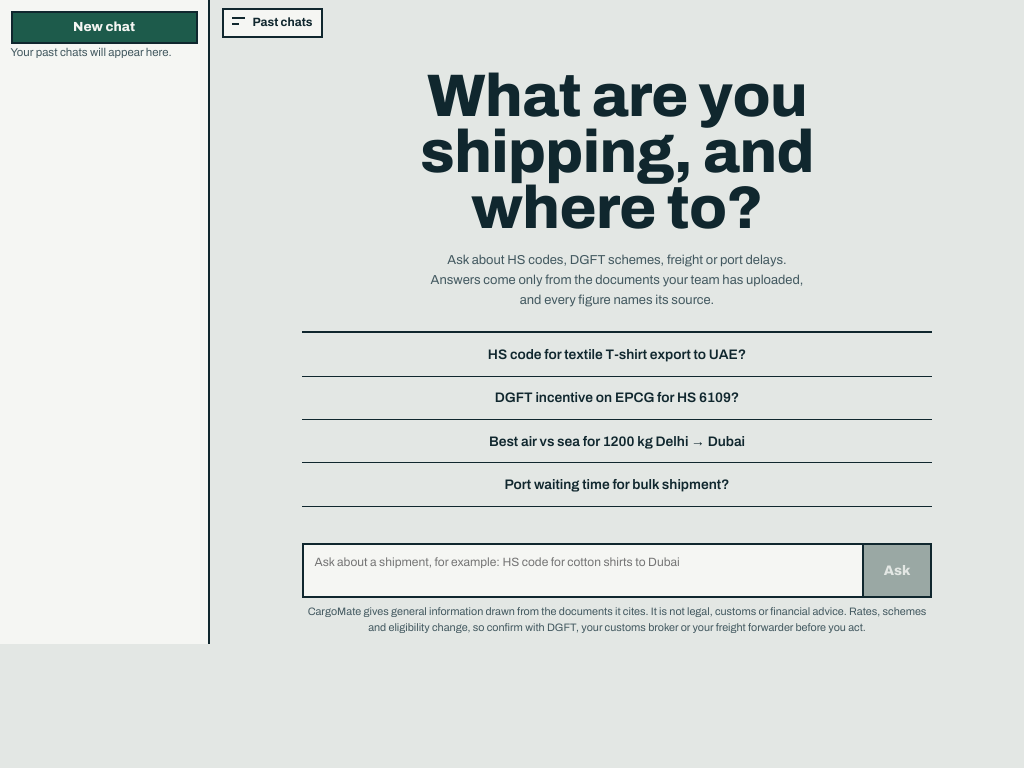
Test: Chat history › saves an answered chat and lists it by its first question, dated Today
Type "HS code for cotton shirts to Dubai" into the text box named "Your question" at (583, 571), box x1=304 y1=545 x2=862 y2=596
Then press Enter
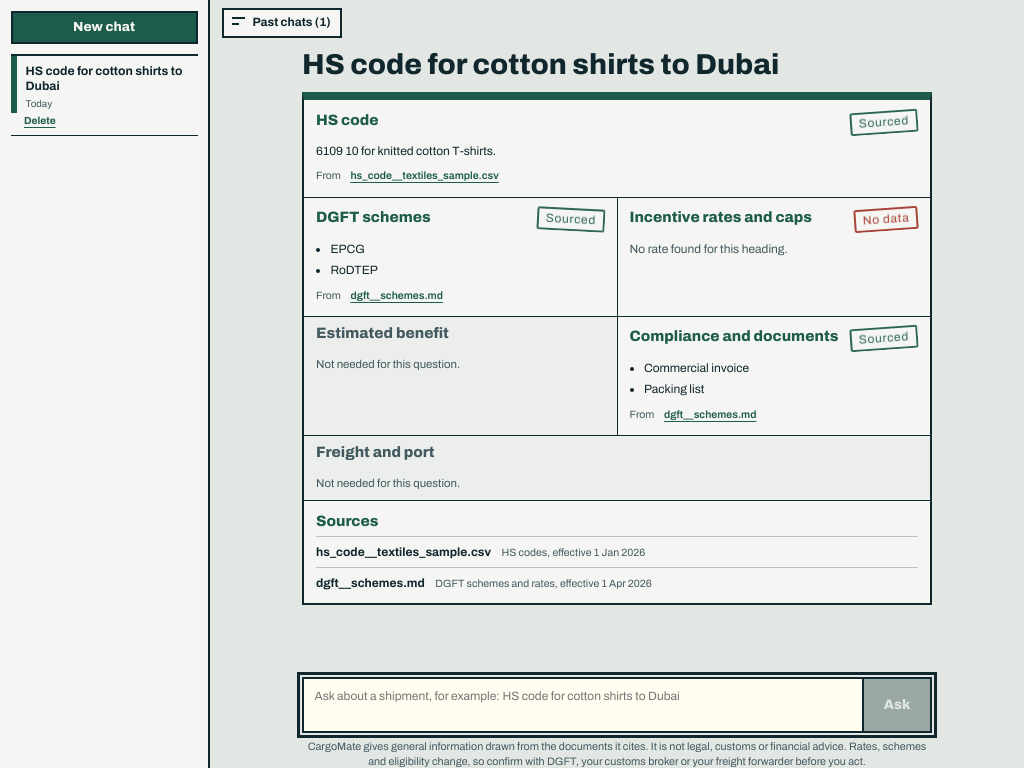
Expected: the text box named "Your question" is enabled, x1=304 y1=679 x2=862 y2=731
Result: the text "Today" is shown at x1=26 y1=98 x2=52 y2=109
